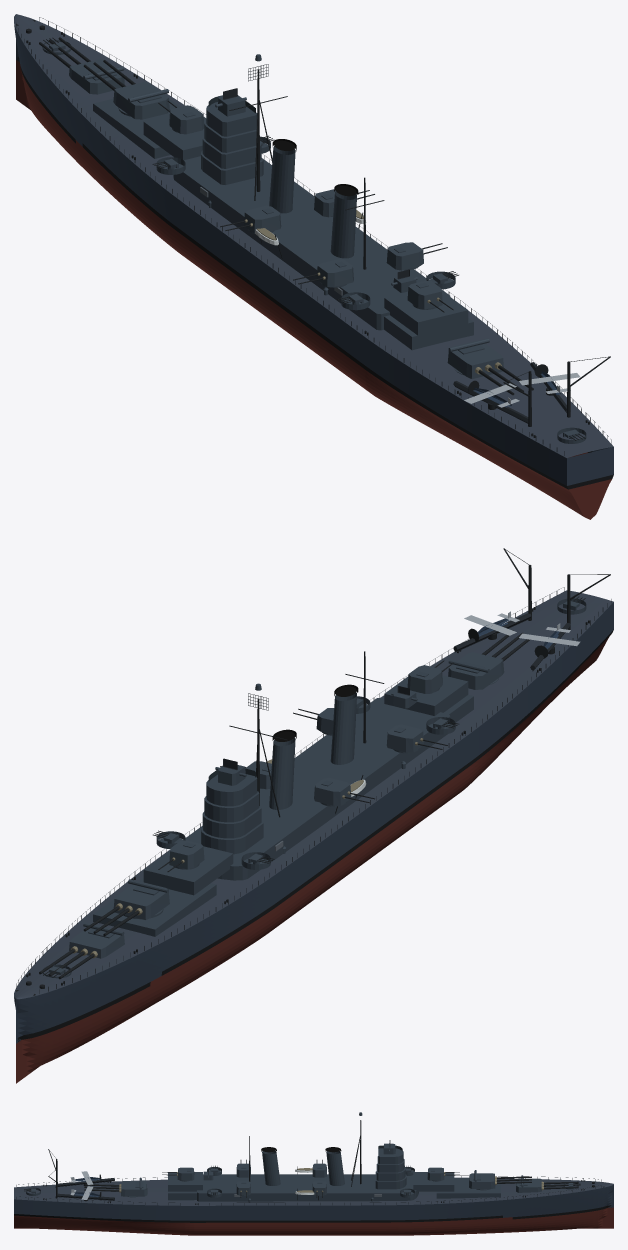
The model's file is baltimore.glb.
The picture shows the model from 3 angles, top to bottom: view 1: azimuth 30°, elevation 25°; view 2: azimuth 150°, elevation 25°; view 3: azimuth 270°, elevation 25°; orthographic projection. The views are drawn at different scales.
Visible parts, largest first — view 1: Hull, Turret2, Turret3, Turret1, Mount56, Mount55, Mount52, Mount51, Mount54; view 2: Hull, Turret2, Turret3, Turret1, Mount54, Mount56, Mount51, Mount52; view 3: Hull, Turret2, Turret3, Turret1, Mount52, Mount51, Mount54, Mount55, Mount53, Mount56.
Boxes of the visible parts, x1,y1,x2,y2 form: Hull: (14,14,613,519); Turret2: (83,60,169,119); Turret3: (447,338,533,395); Turret1: (39,37,124,94); Mount56: (293,259,353,287); Mount55: (386,242,447,270); Mount52: (407,280,453,312); Mount51: (158,100,204,134); Mount54: (220,205,281,233); Hull: (14,548,613,1083); Turret2: (83,879,169,936); Turret3: (448,630,530,689); Turret1: (39,922,124,979); Mount54: (314,778,374,806); Mount56: (386,724,447,753); Mount51: (158,840,204,871); Mount52: (407,660,453,693); Hull: (14,1112,613,1235); Turret2: (469,1170,531,1190); Turret3: (84,1177,147,1197); Turret1: (516,1175,578,1192); Mount52: (162,1167,194,1181); Mount51: (427,1167,459,1181); Mount54: (312,1159,326,1177); Mount55: (236,1181,250,1197); Mount53: (312,1181,326,1197); Mount56: (236,1159,250,1177).
Size of the model in its own units: 30.8 by 43.7 by 205.
